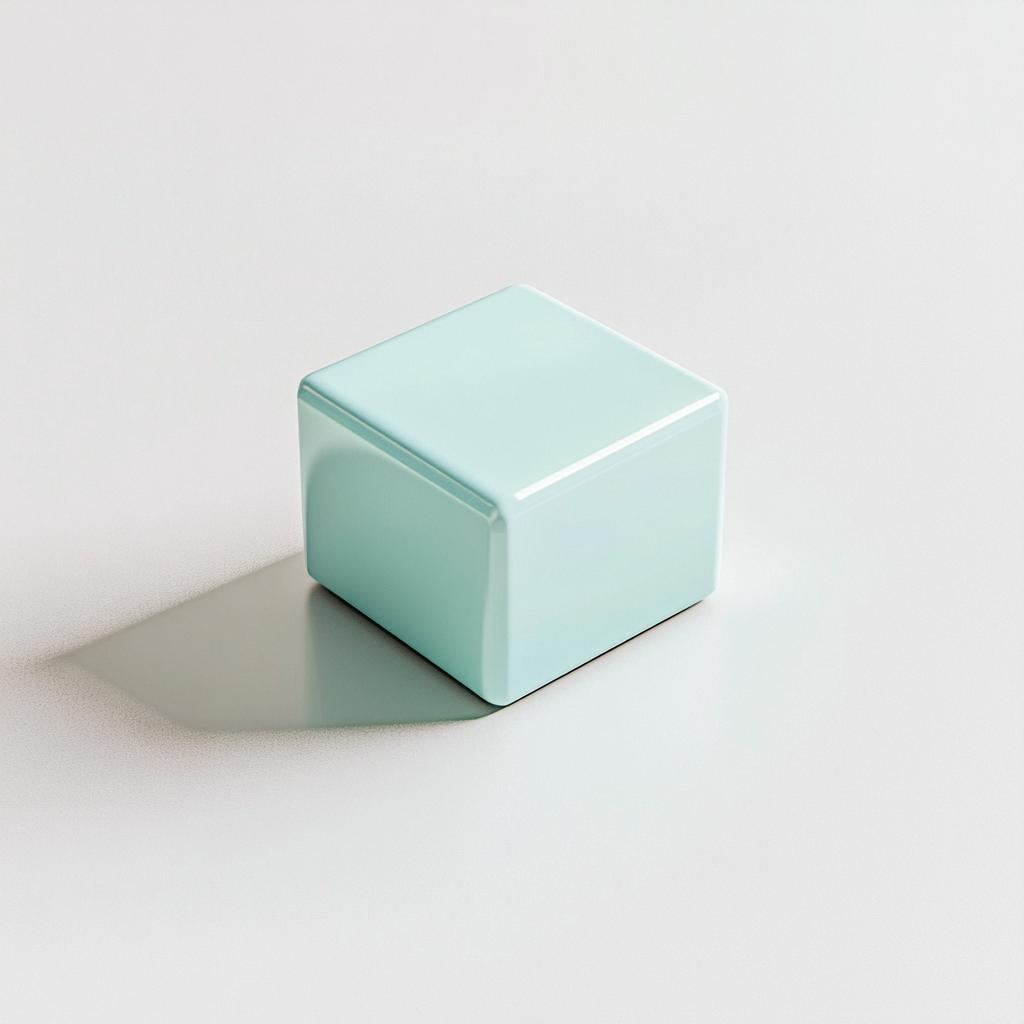cube: (295, 280, 727, 707)
